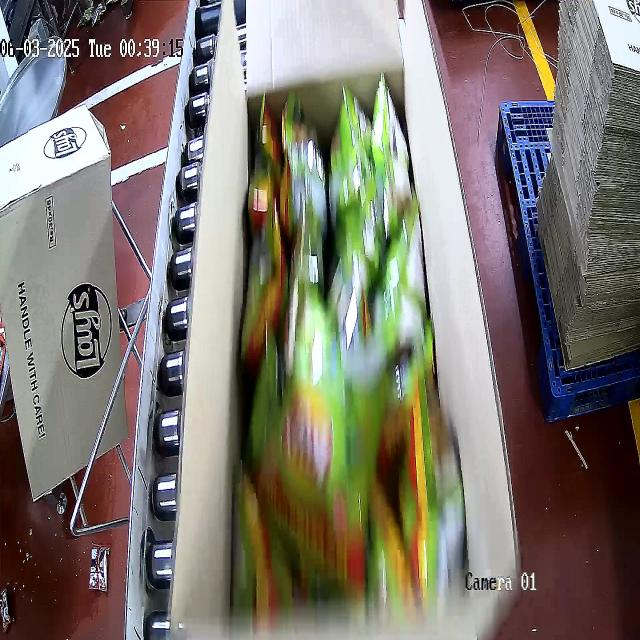YOGURT_HERB: (233, 69, 457, 635)
